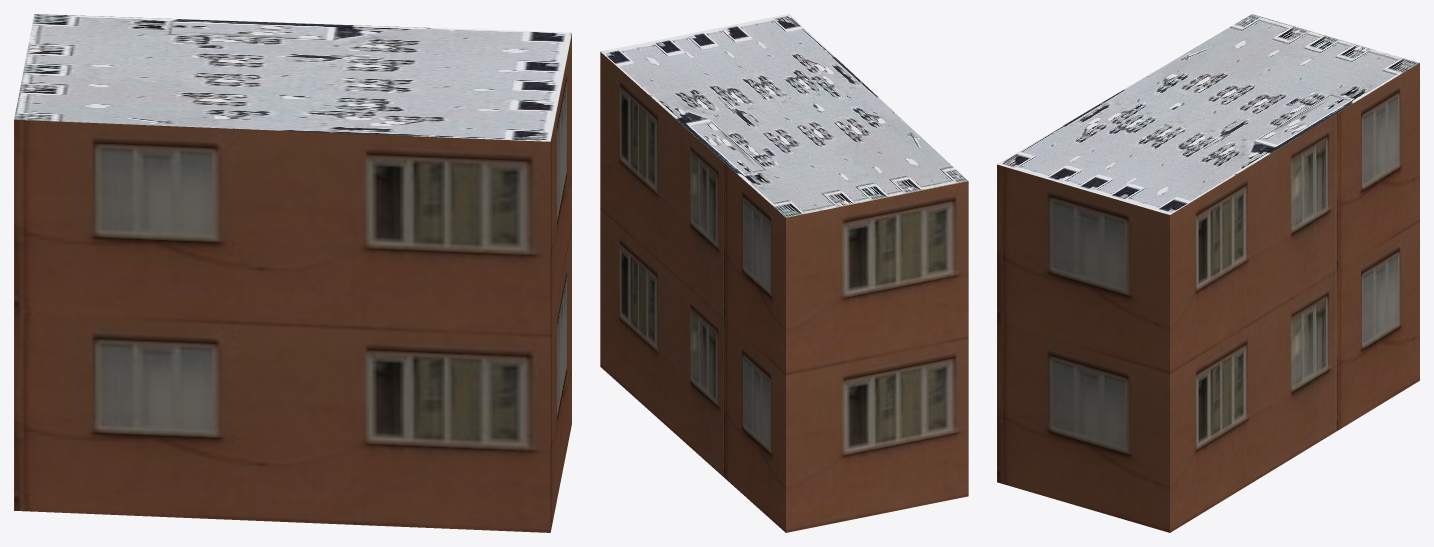
The model's file is ResTex__1860.fbx.
The picture shows the model from 3 angles, left to right: view 1: azimuth 30°, elevation 25°; view 2: azimuth 150°, elevation 25°; view 3: azimuth 270°, elevation 25°; orthographic projection. The views are drawn at different scales.
Visible parts, largest first — view 1: CityEngineMaterial_20_m, CityEngineMaterial_m; view 2: CityEngineMaterial_20_m, CityEngineMaterial_m; view 3: CityEngineMaterial_20_m, CityEngineMaterial_m.
Boxes of the visible parts, box(x1,y1,x2,y2) form: CityEngineMaterial_20_m: box(14, 34, 571, 532); CityEngineMaterial_m: box(14, 14, 571, 141); CityEngineMaterial_20_m: box(600, 52, 968, 532); CityEngineMaterial_m: box(601, 14, 968, 217); CityEngineMaterial_20_m: box(997, 63, 1419, 532); CityEngineMaterial_m: box(997, 14, 1418, 214).
Bounding box in the file's own units: 8.15 × 6 × 7.23.
Materials: 2 (2 with a texture image).
